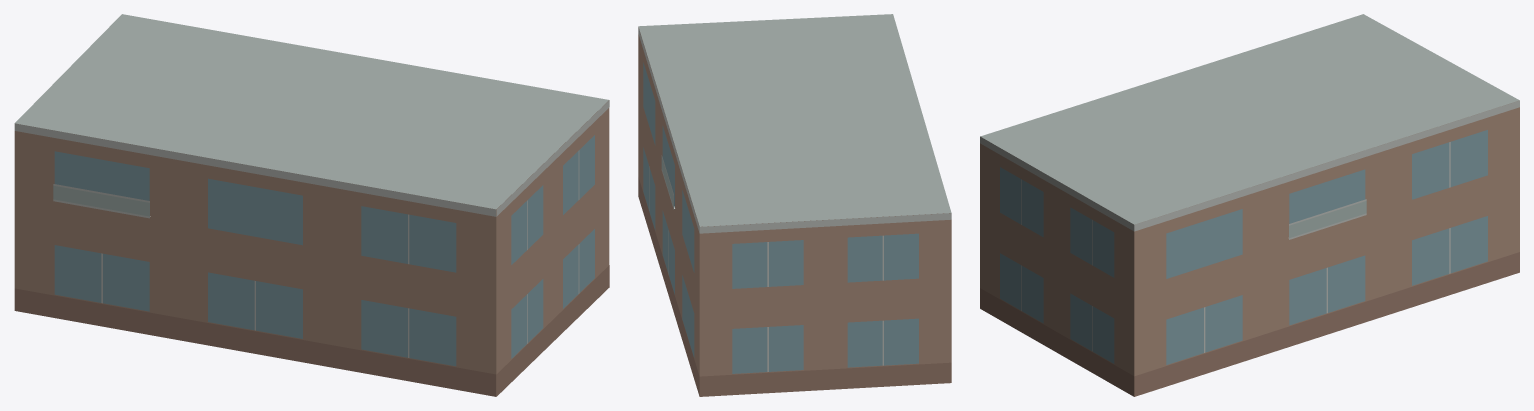
Rendered from survey-upis-32988565.glb.
The picture shows the model from 3 angles, left to right: view 1: azimuth 30°, elevation 25°; view 2: azimuth 150°, elevation 25°; view 3: azimuth 270°, elevation 25°; orthographic projection. The views are drawn at different scales.
Parts seen in each view (by area): view 1: survey-upis-32988565.tmp; view 2: survey-upis-32988565.tmp; view 3: survey-upis-32988565.tmp.
Boxes of the visible parts, x1,y1,x2,y2 form: survey-upis-32988565.tmp: [14, 14, 609, 396]; survey-upis-32988565.tmp: [638, 14, 951, 396]; survey-upis-32988565.tmp: [980, 14, 1519, 396].
Bounding box in the file's own units: 16.02 × 6.1 × 17.34.
